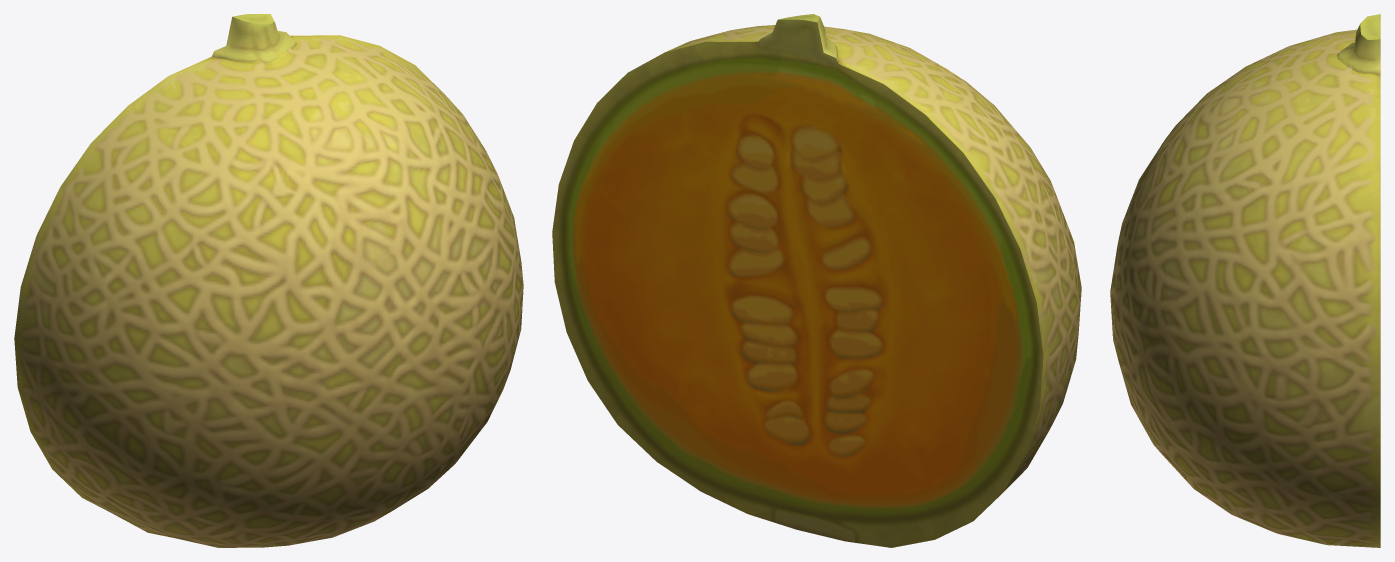
The model's file is SM_CantaloupeCutA.fbx.
3 renders of one model, left to right at view 1: azimuth 30°, elevation 25°; view 2: azimuth 150°, elevation 25°; view 3: azimuth 270°, elevation 25°, orthographic. The views are drawn at different scales.
Visible parts, largest first — view 1: SM_CantaloupeCutA; view 2: SM_CantaloupeCutA; view 3: SM_CantaloupeCutA.
Part boxes in pixels (x1,y1,x2,y2): SM_CantaloupeCutA: (14,14,523,547); SM_CantaloupeCutA: (552,14,1081,547); SM_CantaloupeCutA: (1110,14,1380,547).
Bounding box in the file's own units: 26.71 × 26.62 × 13.3.
